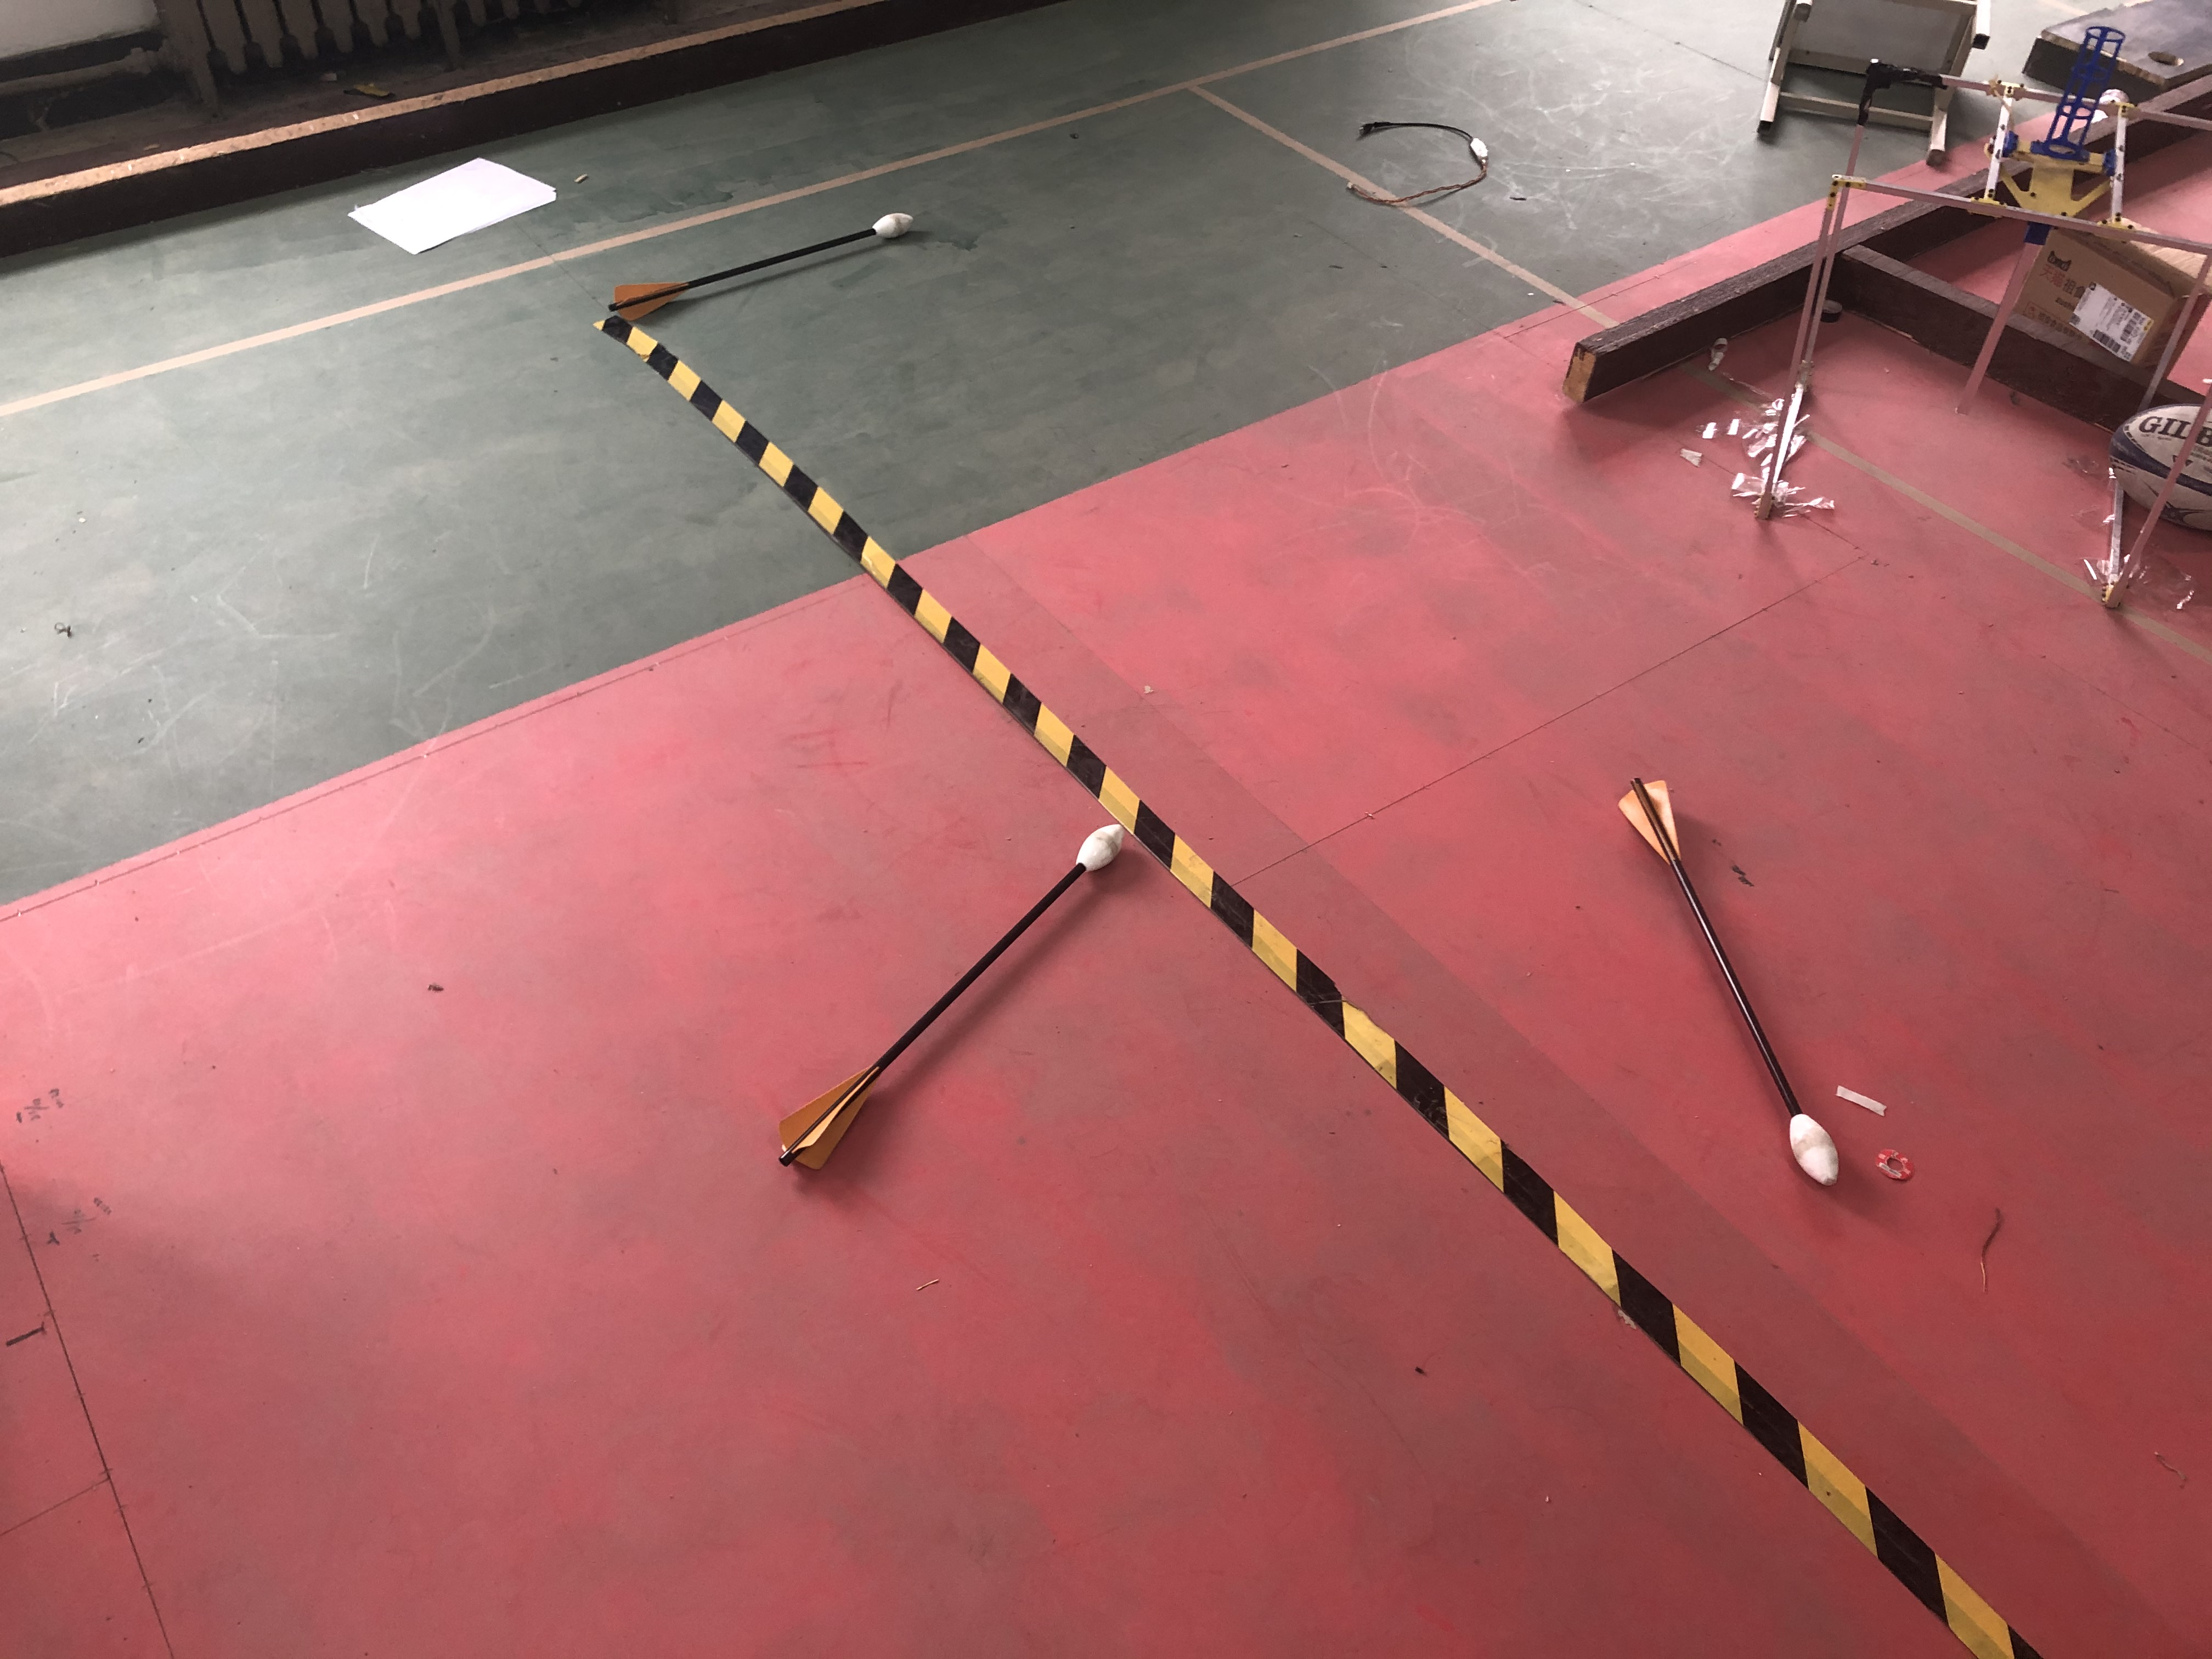arrow: (777, 817, 1127, 1180), (1620, 770, 1836, 1187), (608, 211, 925, 326)
arrowFront: (1785, 1110, 1838, 1187), (1068, 816, 1130, 878), (867, 214, 918, 239)
